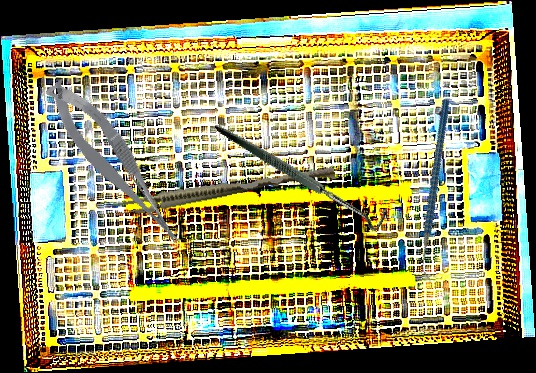Chopper: (365, 97, 510, 286)
Hook Surgical: (214, 72, 393, 274)
Micro Scissor: (40, 68, 187, 260)
Tissue Forceps: (112, 158, 336, 222)
